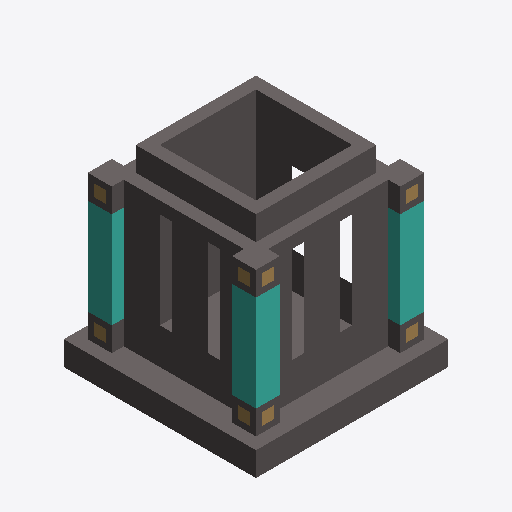
Isometric view (azimuth 45°, elevation 35.3°) of a Minecraft model made of 14 cuboids, textured from the same repository.
Visible parts, largest first — element 1, element 4, element 6, element 7, element 2, element 9, element 14, element 13, element 11, element 12, element 3, element 5.
Boxes of the visible parts, <box> form: element 1: <box>64,291,447,477</box>; element 4: <box>257,173,387,407</box>; element 6: <box>124,173,254,407</box>; element 7: <box>232,242,279,435</box>; element 2: <box>377,159,423,352</box>; element 9: <box>88,159,134,352</box>; element 14: <box>244,76,375,178</box>; element 13: <box>149,83,255,171</box>; element 11: <box>136,138,267,241</box>; element 12: <box>256,145,363,234</box>; element 3: <box>124,145,255,324</box>; element 5: <box>256,145,387,324</box>.
Bounding box in the file's own units: 16 × 16 × 16.